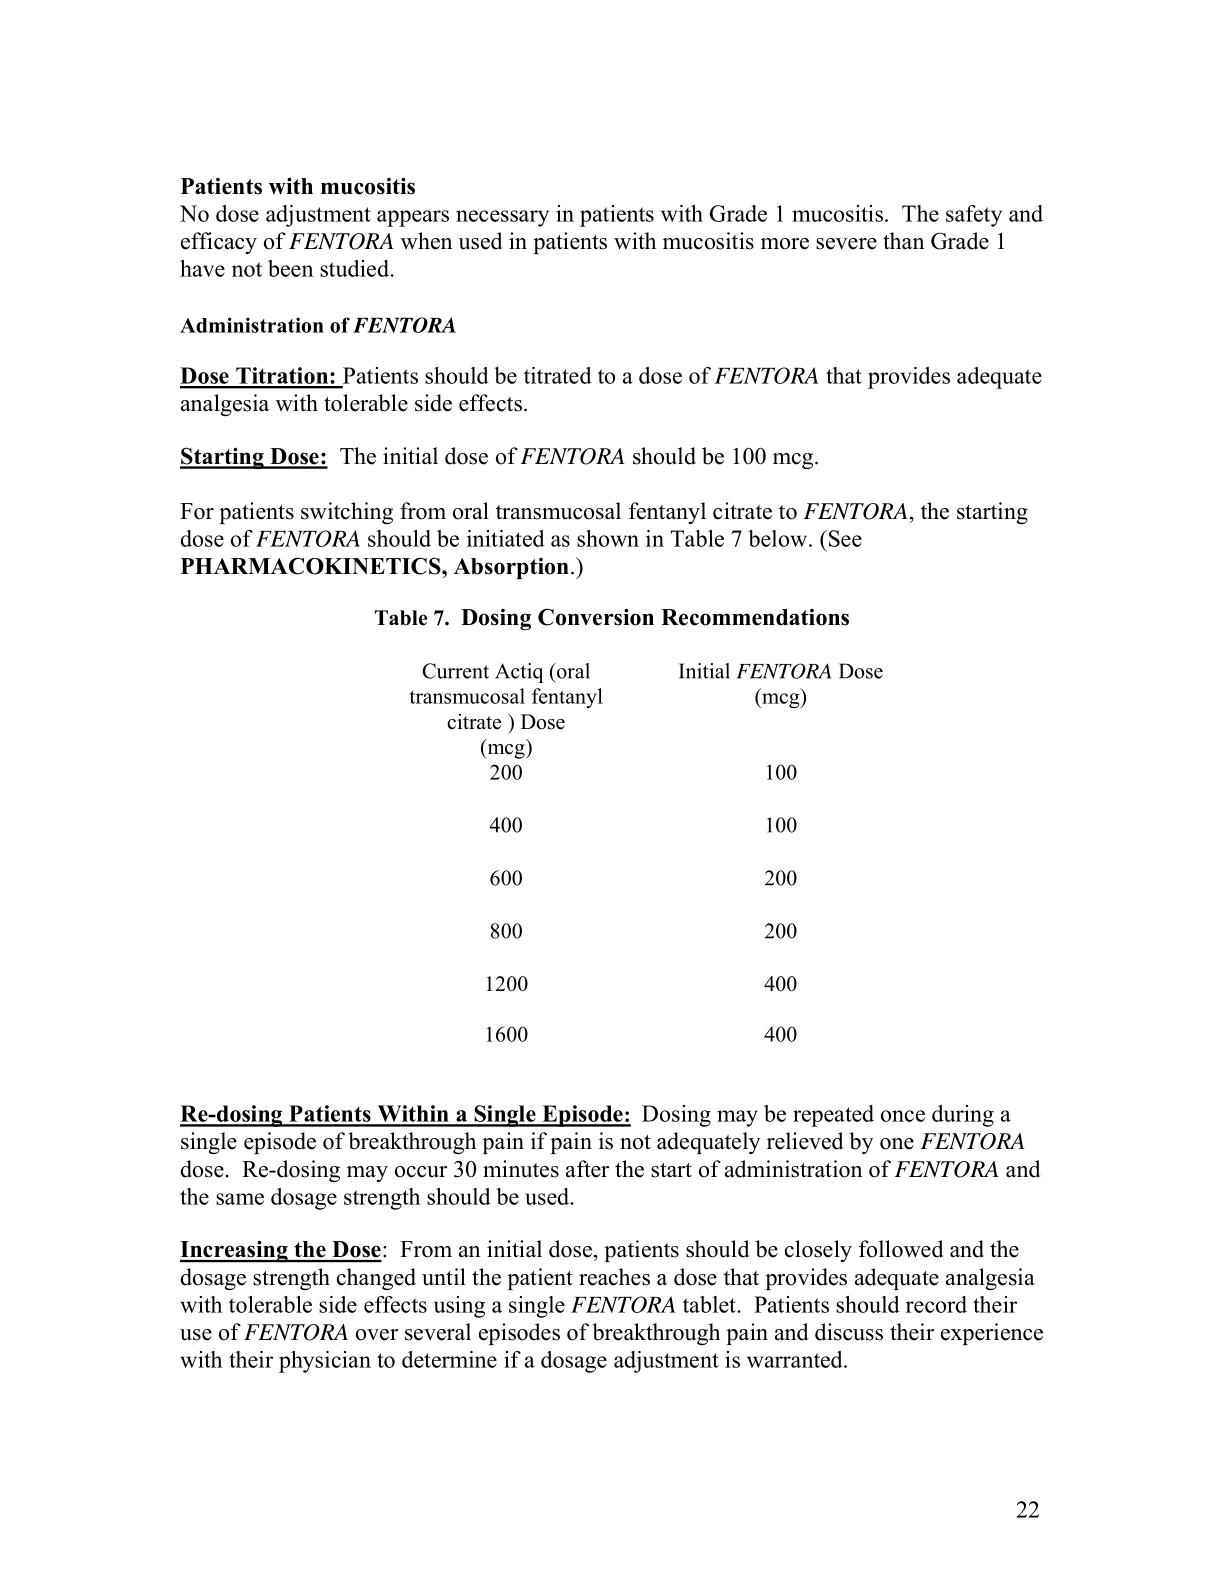nolines: (408, 660, 885, 1044)
